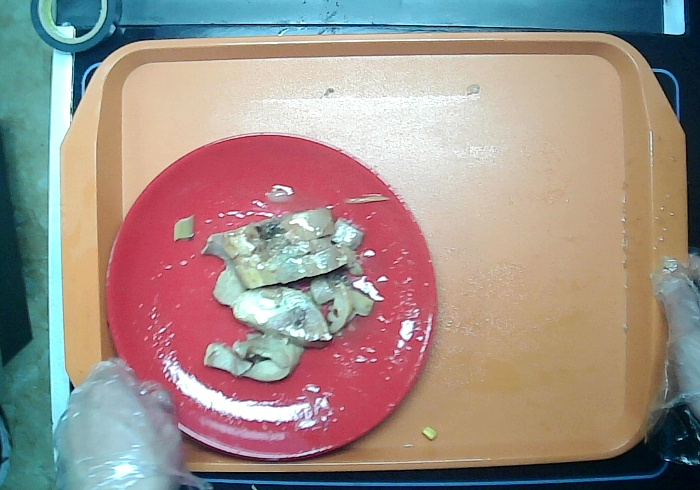HZYJPL-Hong_Se_Yuan_Pan: (99, 124, 439, 469)
